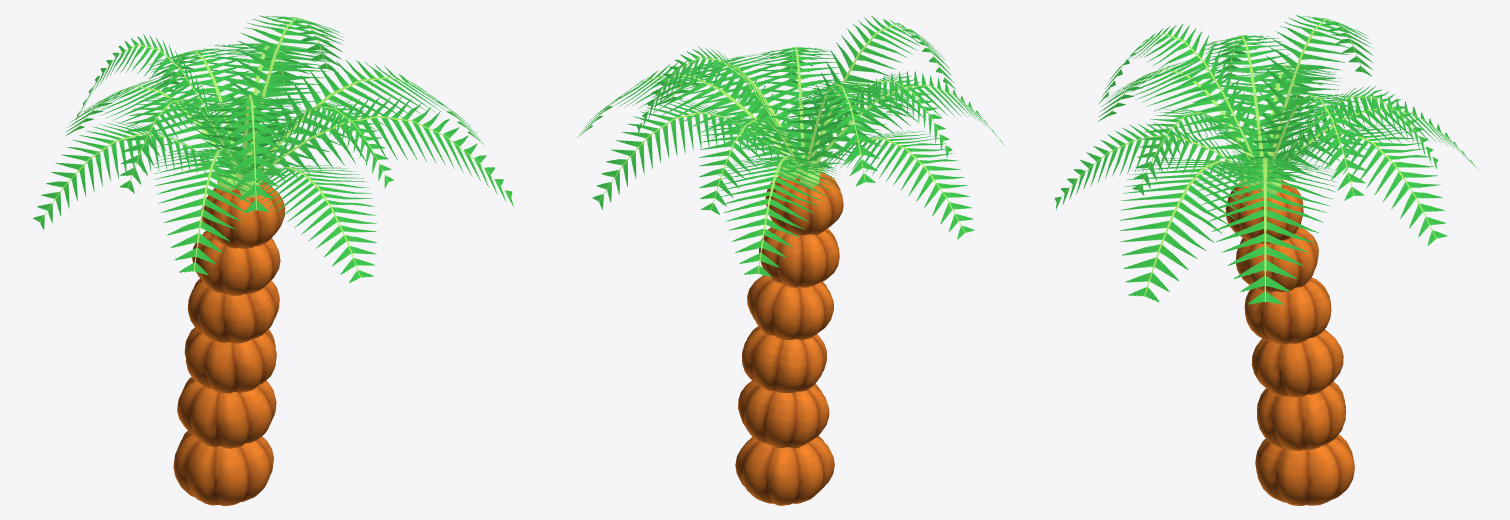
File: pumpkin-palm.glb
3 views of the same model, side by side, from view 1: azimuth 30°, elevation 25°; view 2: azimuth 150°, elevation 25°; view 3: azimuth 270°, elevation 25° (orthographic). The views are drawn at different scales.
Parts seen in each view (by area): view 1: palm; view 2: palm; view 3: palm.
Part boxes in pixels (x1,y1,x2,y2): palm: (33, 15, 513, 505); palm: (577, 16, 1005, 505); palm: (1054, 15, 1478, 505).
Bounding box in the file's own units: 2.21 × 2.22 × 2.01.
Materials: 2 (2 with a texture image).
